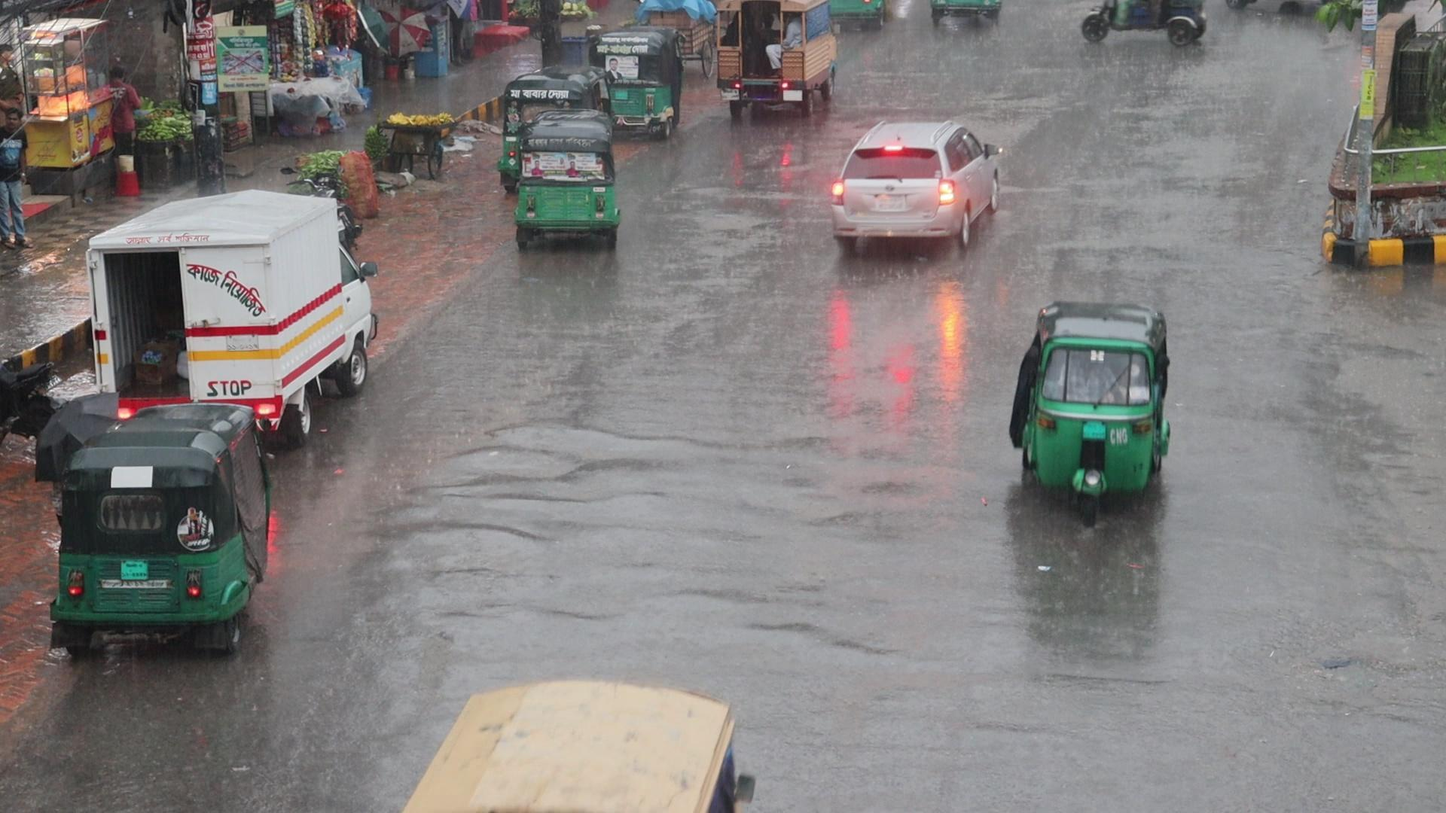Car: (827, 121, 1003, 253)
Truck: (713, 2, 841, 116)
